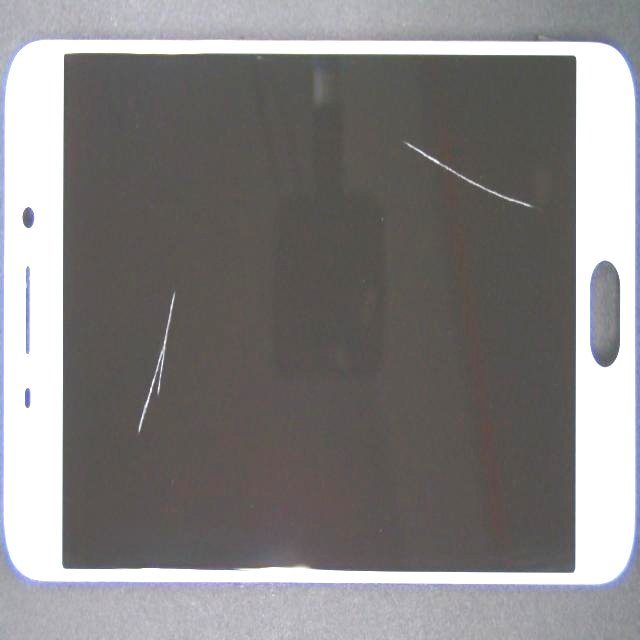scratch: (108, 60, 232, 497), (339, 131, 640, 256)
